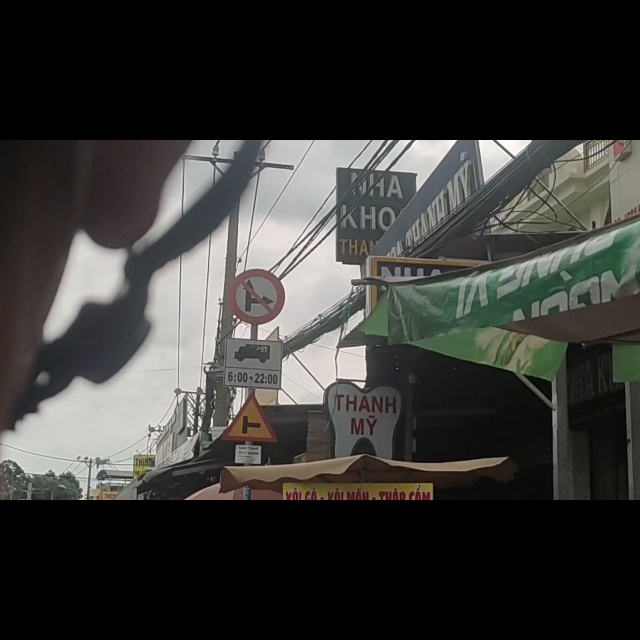bien_cam: (231, 229, 284, 325), (225, 352, 280, 436), (224, 450, 275, 536)
